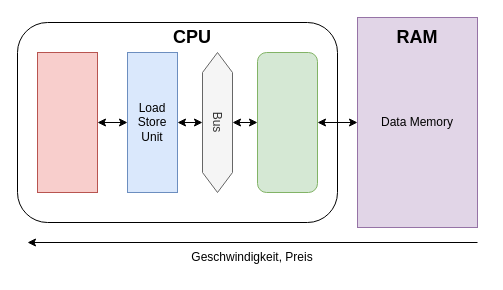
Some shapes in this 503 by 290 pixel diagram are drawn without their labels. Each missing label, with the centre of its shape:
Cache: pixel 287 122
Execution Engine: pixel 67 122
